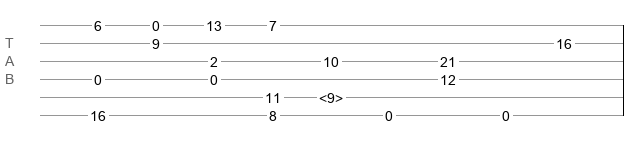0: (94, 72, 102, 82), (152, 18, 160, 28), (210, 72, 218, 82), (385, 108, 393, 118), (502, 108, 510, 118)
10: (323, 54, 339, 64)
11: (265, 90, 281, 100)
12: (440, 72, 456, 82)
13: (206, 18, 222, 28)
16: (90, 108, 106, 118), (556, 36, 572, 46)
2: (210, 54, 218, 64)
21: (440, 54, 456, 64)
6: (94, 18, 102, 28)
7: (269, 18, 277, 28)
8: (269, 108, 277, 118)
9: (152, 36, 160, 46)
harmonic: (319, 90, 343, 100)
